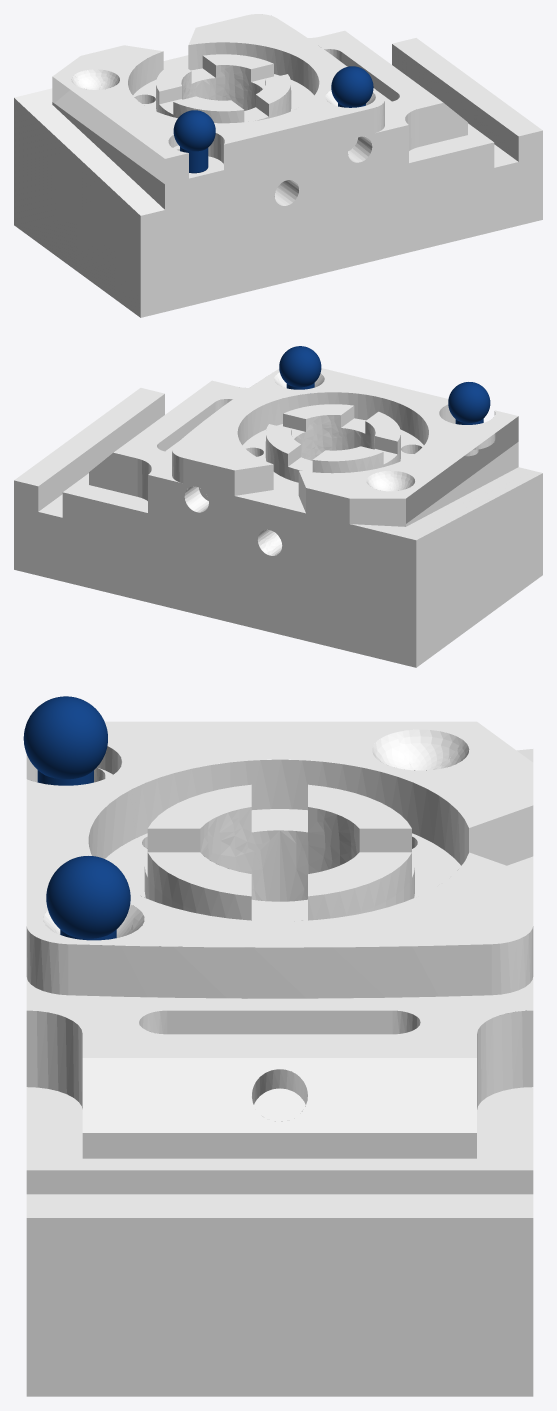
Rendered from equipamentoAlumar.glb.
3 views of the same model, one above another, from view 1: azimuth 30°, elevation 25°; view 2: azimuth 150°, elevation 25°; view 3: azimuth 270°, elevation 25° (orthographic). The views are drawn at different scales.
Parts seen in each view (by area): view 1: FACE203, FACE201, FACE196, FACE145, FACE195, FACE138, FACE139, FACE191, FACE127, FACE187, FACE147, FACE155 (+18 smaller); view 2: FACE191, FACE201, FACE196, FACE195, FACE138, FACE139, FACE203, FACE145, FACE128, FACE185, FACE188, FACE147 (+19 smaller); view 3: FACE137, FACE196, FACE194, FACE032, FACE195, FACE193, FACE140, FACE138, FACE141, FACE130, FACE075, Sphere 1 (+23 smaller).
Boxes of the visible parts, x1,y1,x2,y2 form: FACE203: (140, 108, 542, 317); FACE201: (14, 98, 140, 317); FACE196: (52, 14, 384, 158); FACE145: (14, 88, 164, 215); FACE195: (308, 30, 443, 132); FACE138: (392, 38, 542, 136); FACE139: (392, 44, 518, 161); FACE191: (54, 42, 327, 183); FACE127: (188, 42, 303, 85); FACE187: (202, 65, 260, 110); FACE147: (52, 102, 164, 209); FACE155: (419, 103, 467, 146); FACE191: (14, 458, 416, 667); FACE201: (416, 473, 542, 667); FACE196: (172, 368, 518, 498); FACE195: (114, 380, 248, 482); FACE138: (14, 388, 164, 486); FACE139: (38, 394, 164, 511); FACE203: (406, 415, 518, 523); FACE145: (350, 467, 542, 540); FACE128: (248, 392, 357, 439); FACE185: (235, 420, 423, 513); FACE188: (296, 415, 354, 460); FACE147: (406, 442, 518, 526); FACE137: (26, 1218, 533, 1396); FACE196: (26, 721, 533, 947); FACE194: (82, 1058, 476, 1132); FACE032: (68, 944, 491, 998); FACE195: (26, 977, 533, 1057); FACE193: (26, 1087, 533, 1170); FACE140: (26, 1170, 533, 1194); FACE138: (26, 1194, 533, 1217); FACE141: (82, 1133, 476, 1158); FACE130: (230, 759, 464, 865); FACE075: (167, 1010, 392, 1034); Sphere 1: (23, 696, 107, 779).
Bounding box in the file's own units: 0.165 × 0.0717 × 0.0905.
